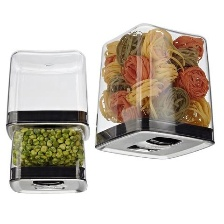plastic_box: (90, 19, 220, 165), (1, 45, 93, 146), (3, 121, 92, 199)
